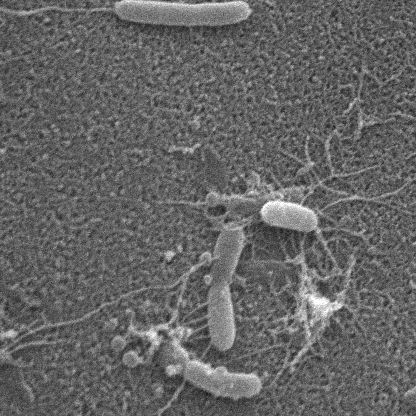cell2cell: (0, 256, 213, 381)
cell2surface: (0, 0, 107, 14), (183, 314, 213, 332), (181, 300, 213, 314), (187, 327, 213, 343)
regular: (213, 223, 244, 352), (111, 1, 248, 25), (185, 366, 260, 398), (258, 204, 319, 234)
